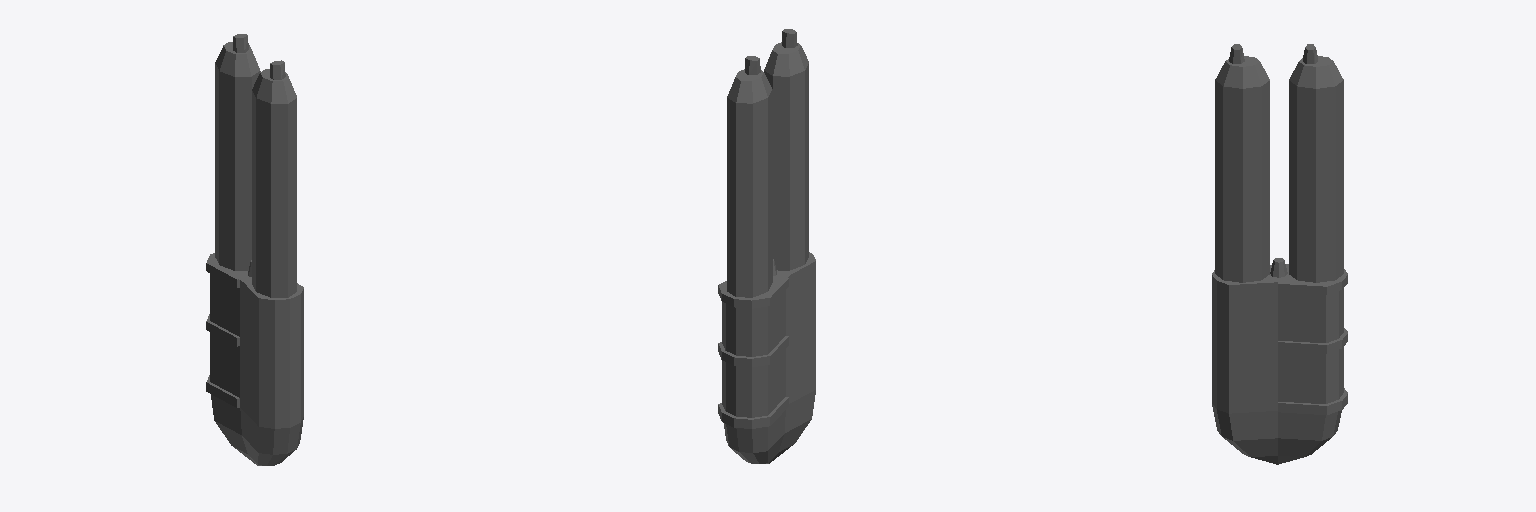
The model's file is guns.obj.
3 renders of one model, left to right at view 1: azimuth 30°, elevation 25°; view 2: azimuth 150°, elevation 25°; view 3: azimuth 270°, elevation 25°, orthographic.
Visible parts, largest first — view 1: guns; view 2: guns; view 3: guns.
Part boxes in pixels (bbox=[...]): guns: bbox=[206, 34, 303, 465]; guns: bbox=[718, 29, 815, 463]; guns: bbox=[1212, 44, 1347, 464].
Bounding box in the file's own units: 1.71 × 13.1 × 3.89.